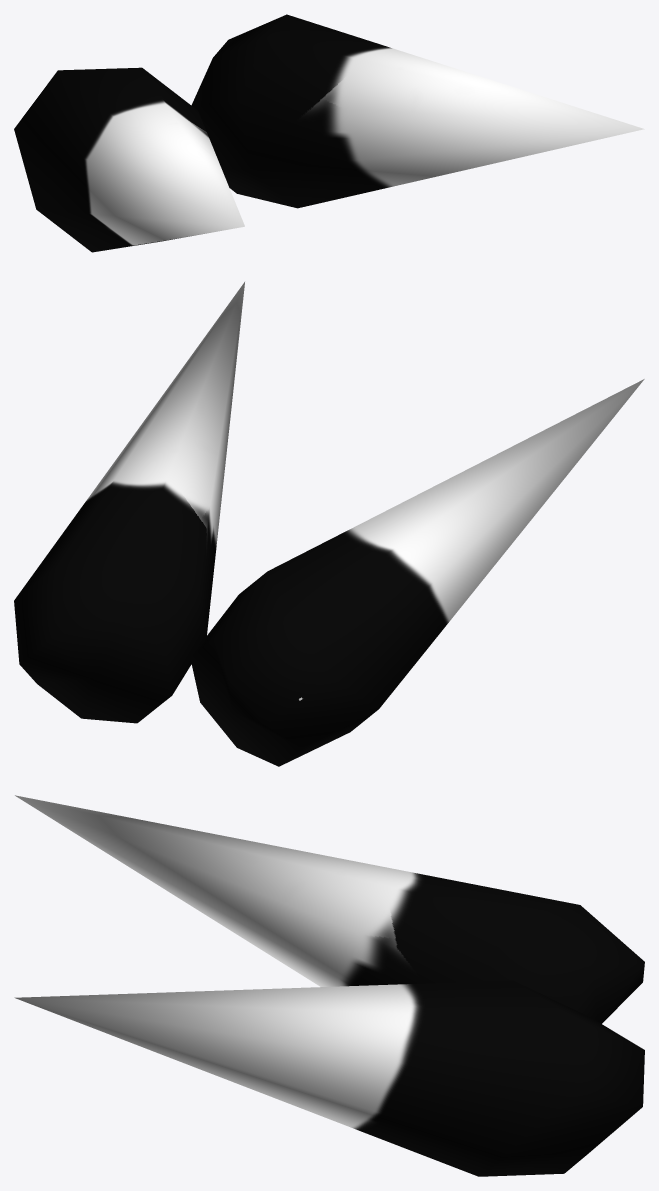
Rendered from Default Horn.fbx.
3 views of the same model, one above another, from view 1: azimuth 30°, elevation 25°; view 2: azimuth 150°, elevation 25°; view 3: azimuth 270°, elevation 25° (orthographic). The views are drawn at different scales.
Parts seen in each view (by area): view 1: Kobold Horn Default; view 2: Kobold Horn Default; view 3: Kobold Horn Default.
Part boxes in pixels (bbox=[...]): Kobold Horn Default: bbox=[14, 14, 644, 252]; Kobold Horn Default: bbox=[14, 282, 644, 766]; Kobold Horn Default: bbox=[14, 795, 644, 1176].
Bounding box in the file's own units: 74.48 × 98.04 × 38.97.
